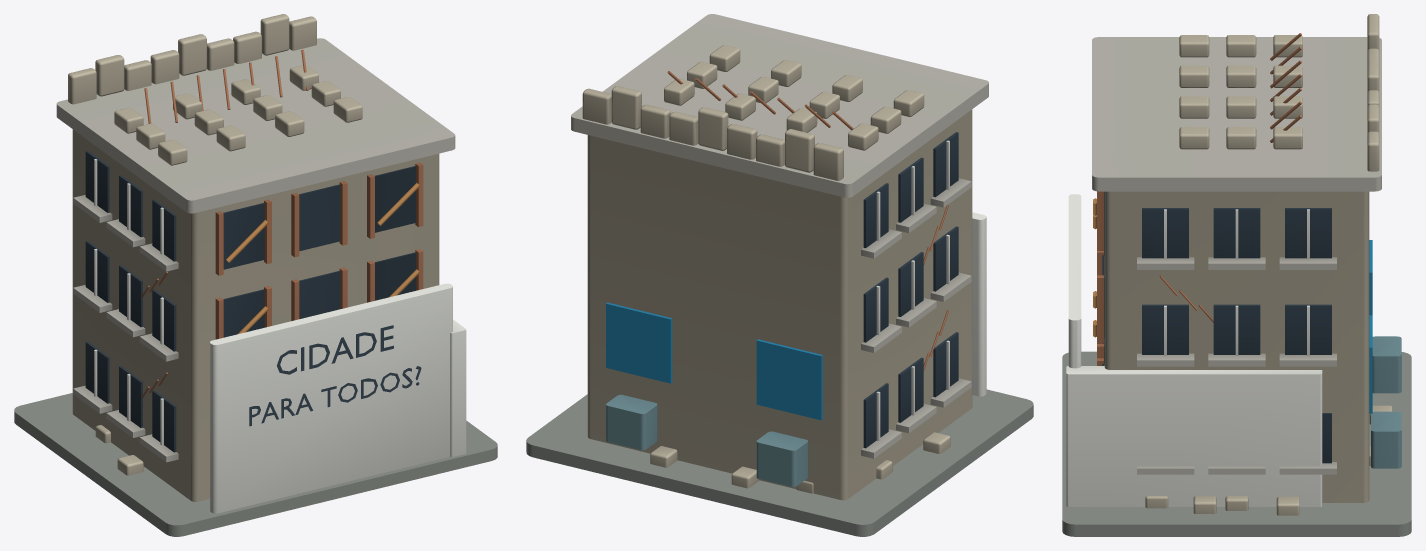
Rendered from ruined-building-low.glb.
The picture shows the model from 3 angles, left to right: view 1: azimuth 30°, elevation 25°; view 2: azimuth 150°, elevation 25°; view 3: azimuth 270°, elevation 25°; orthographic projection. The views are drawn at different scales.
Parts seen in each view (by area): view 1: old building shell, community wall, cracked upper ledge, empty broken window, weathered urban plot, damaged window frame, boarded window; view 2: old building shell, cracked upper ledge, weathered urban plot, empty broken window, rear glazed opening, rear ventilation unit, community wall, damaged window frame; view 3: old building shell, cracked upper ledge, community wall, weathered urban plot, empty broken window, rear ventilation unit, damaged window frame, rear glazed opening.
Boxes of the visible parts, x1,y1,x2,y2 form: old building shell: (68, 14, 439, 501); community wall: (94, 159, 466, 513); cracked upper ledge: (56, 38, 455, 462); empty broken window: (85, 151, 421, 452); weathered urban plot: (14, 393, 497, 536); damaged window frame: (141, 49, 423, 398); boarded window: (226, 182, 419, 334); old building shell: (582, 45, 972, 500); cracked upper ledge: (571, 14, 988, 458); weathered urban plot: (526, 389, 1033, 536); empty broken window: (863, 132, 958, 448); rear glazed opening: (606, 302, 822, 420); rear ventilation unit: (606, 394, 808, 486); community wall: (876, 140, 986, 440); damaged window frame: (667, 71, 948, 371); old building shell: (1104, 14, 1392, 515); cracked upper ledge: (1092, 37, 1381, 474); community wall: (1066, 194, 1322, 506); weathered urban plot: (1062, 351, 1411, 536); empty broken window: (1102, 191, 1331, 463); rear ventilation unit: (1371, 336, 1401, 468); damaged window frame: (1097, 33, 1301, 365); rear glazed opening: (1369, 240, 1372, 413).
Bounding box in the file's own units: 4.8 × 4.93 × 4.1.
